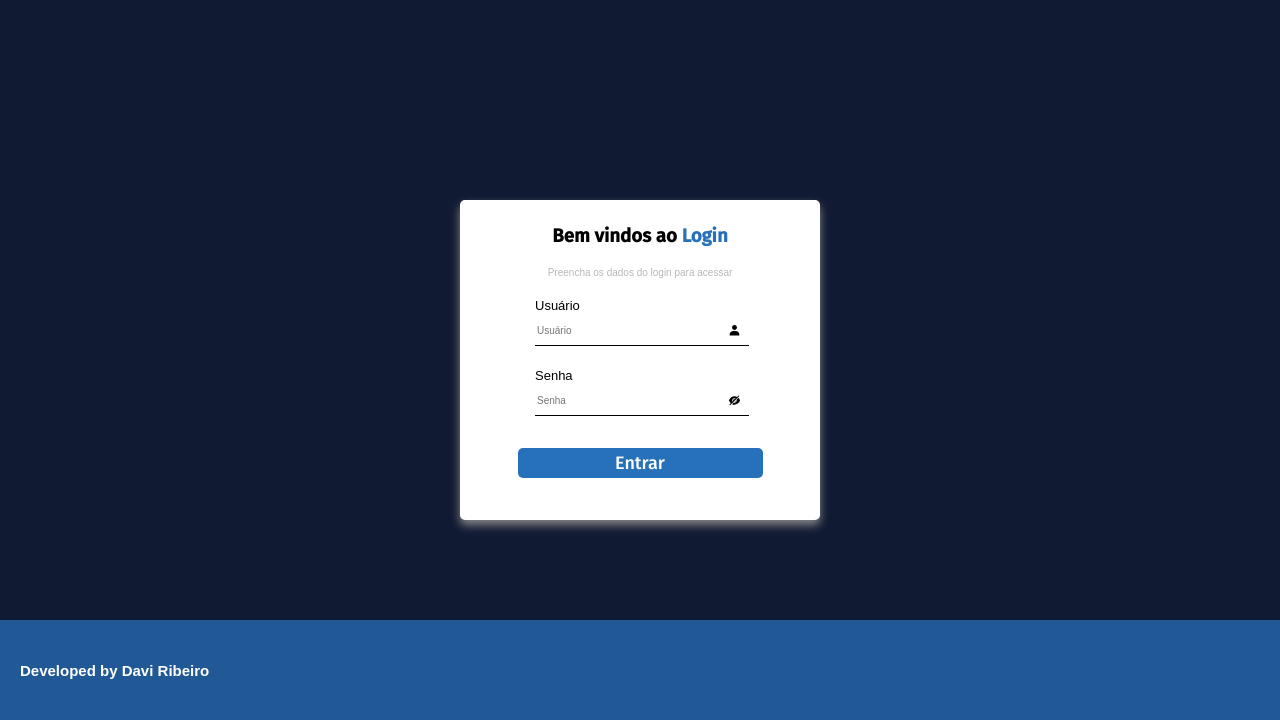
Test: Componente <CardLogin /> › Deve ser renderizado um erro ao tentar logar com campo de input vazio
Click the button.
click(640, 463)  # box [518, 448, 762, 478]
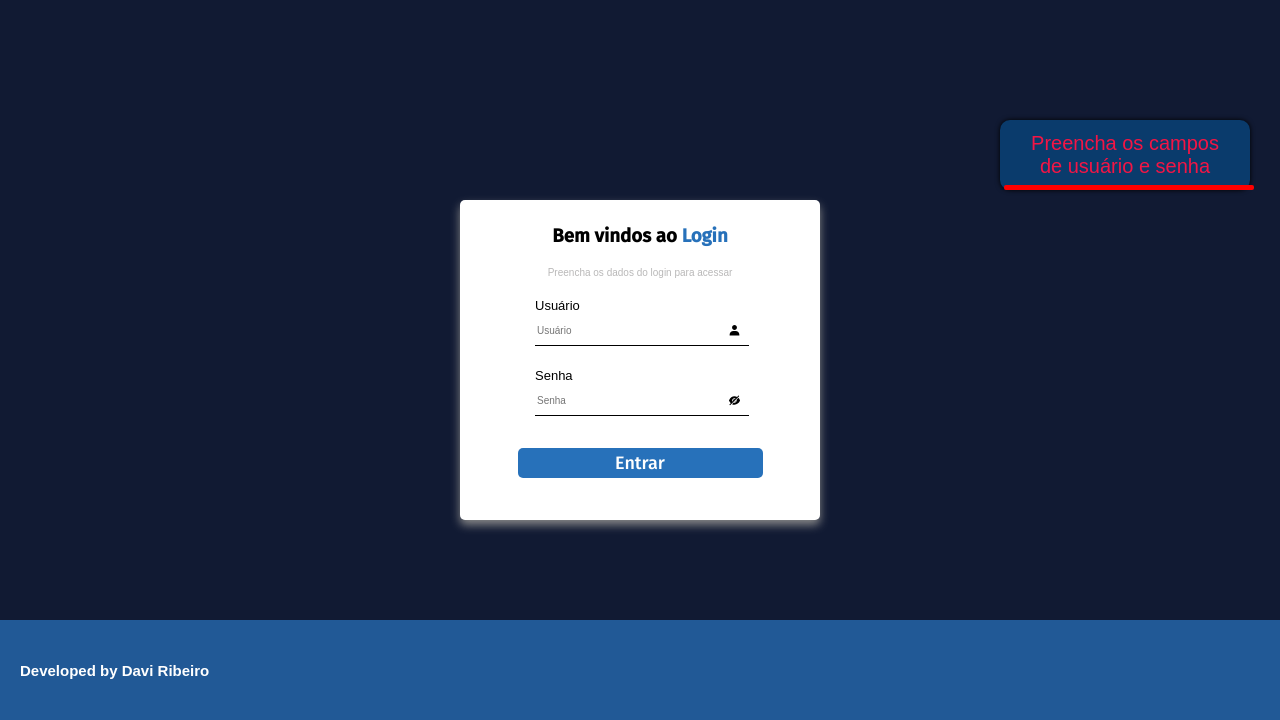
Expected: the text "Preencha os campos de usuário e senha" is shown, [1031, 132, 1219, 177]
